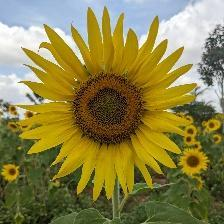sunflower: (28, 28, 193, 196)
